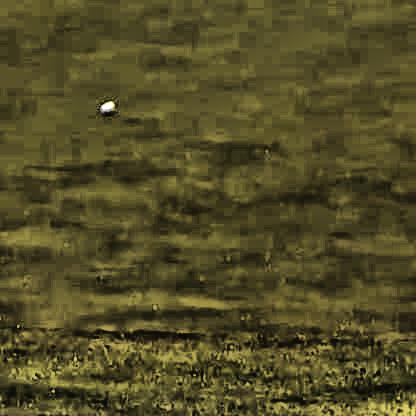golfball: (97, 97, 114, 114)
